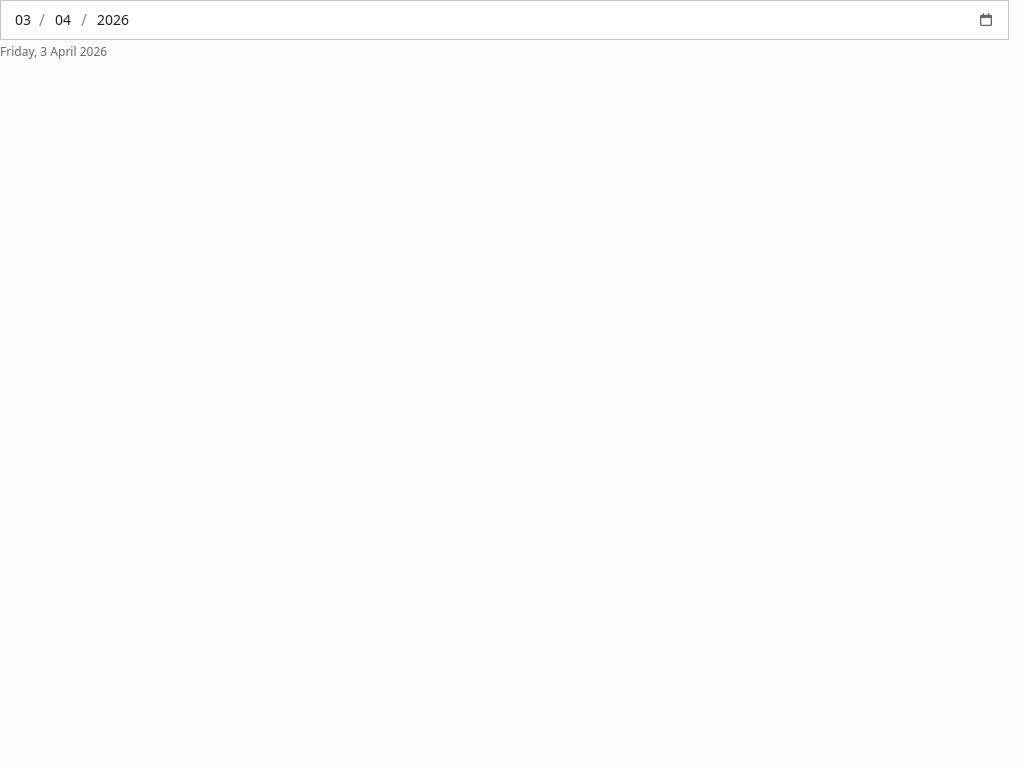
Test: the calendar › opens on the month the value is in
Click the button named "Open calendar".
click(986, 20)  # box 972,6 -> 1000,34
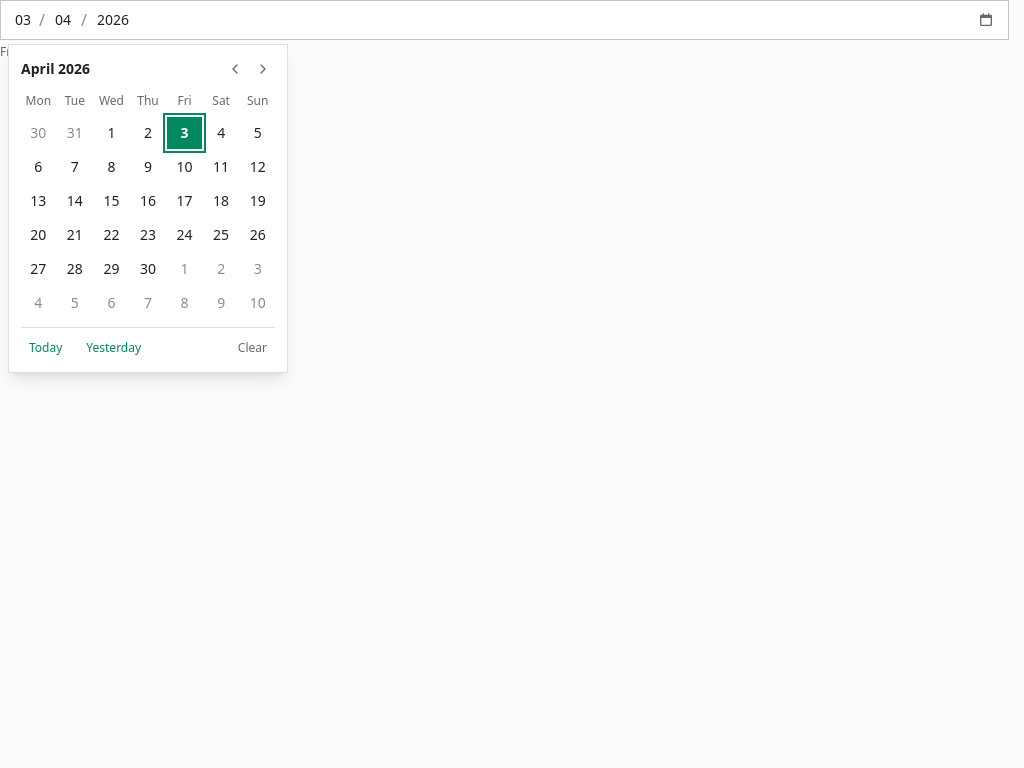
Expected: the text "April 2026" is shown, 21,59 -> 90,79
